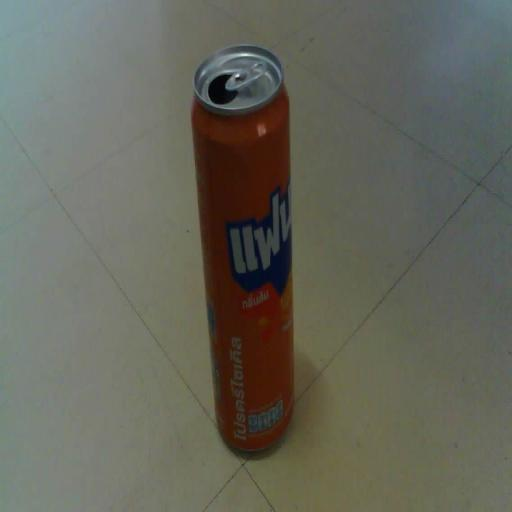canned: (184, 28, 308, 474)
